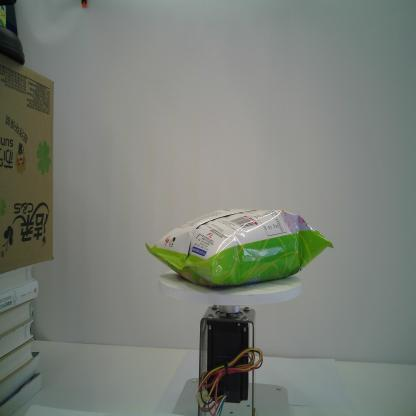Puffed Food: (145, 208, 334, 286)
